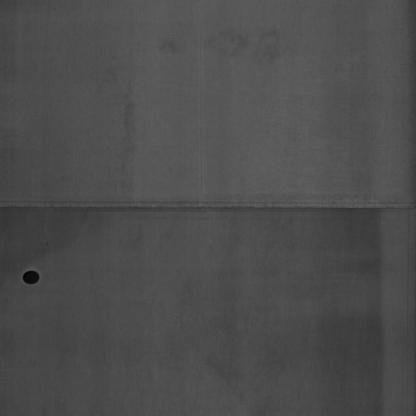punching_hole: (18, 262, 44, 292)
welding_line: (1, 193, 415, 222)
